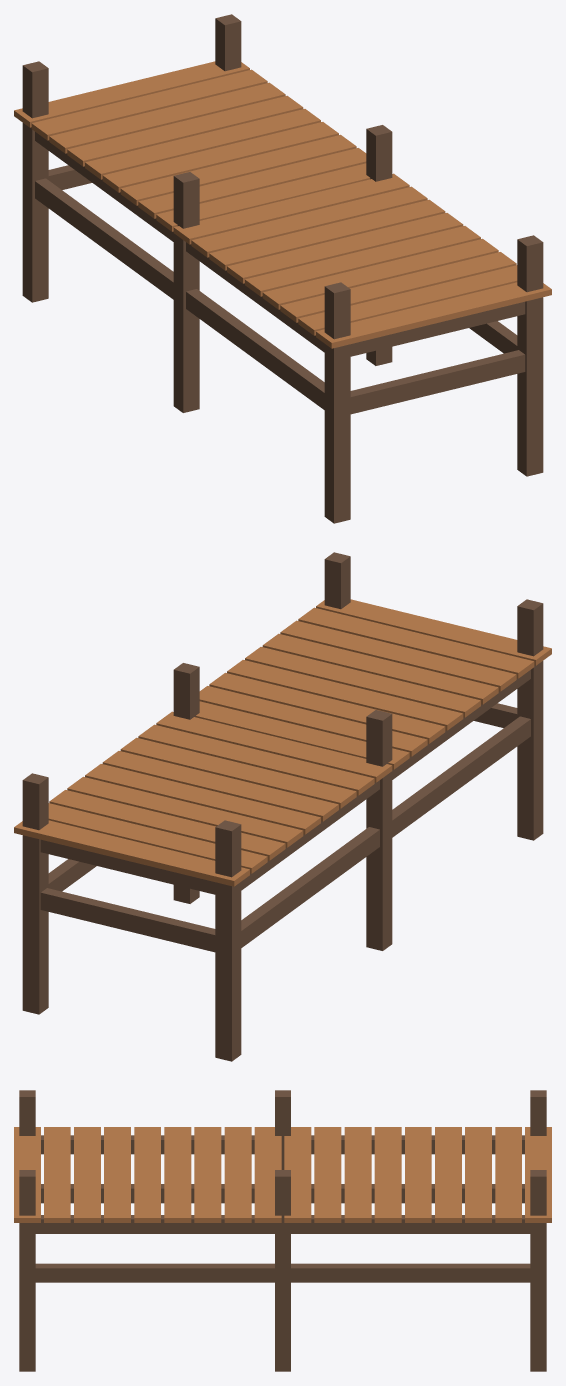
File: SPW_Medieval_Props_Stand_01.glb
3 renders of one model, top to bottom at view 1: azimuth 30°, elevation 25°; view 2: azimuth 150°, elevation 25°; view 3: azimuth 270°, elevation 25°, orthographic. The views are drawn at different scales.
Parts seen in each view (by area): view 1: SPW_Medieval_Props_Stand_01; view 2: SPW_Medieval_Props_Stand_01; view 3: SPW_Medieval_Props_Stand_01.
Part boxes in pixels (<box>): SPW_Medieval_Props_Stand_01: <box>14,14,551,523</box>; SPW_Medieval_Props_Stand_01: <box>14,552,551,1061</box>; SPW_Medieval_Props_Stand_01: <box>14,1090,551,1371</box>.
Bounding box in the file's own units: 2 × 2 × 5.
Materials: 1 (1 with a texture image).
